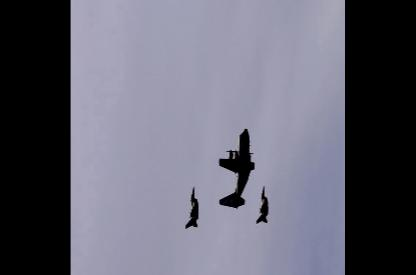Be200: (219, 126, 254, 207)
F14: (185, 184, 198, 227), (257, 183, 268, 222)
